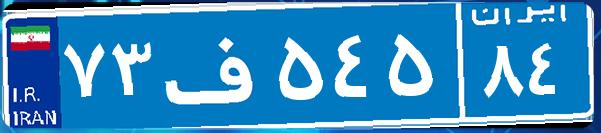3: (110, 28, 158, 105)
4: (330, 28, 385, 110), (525, 38, 570, 115)
5: (385, 28, 445, 110), (273, 28, 330, 110)
7: (57, 26, 110, 107)
8: (475, 38, 525, 113)
ف: (158, 15, 273, 115)
